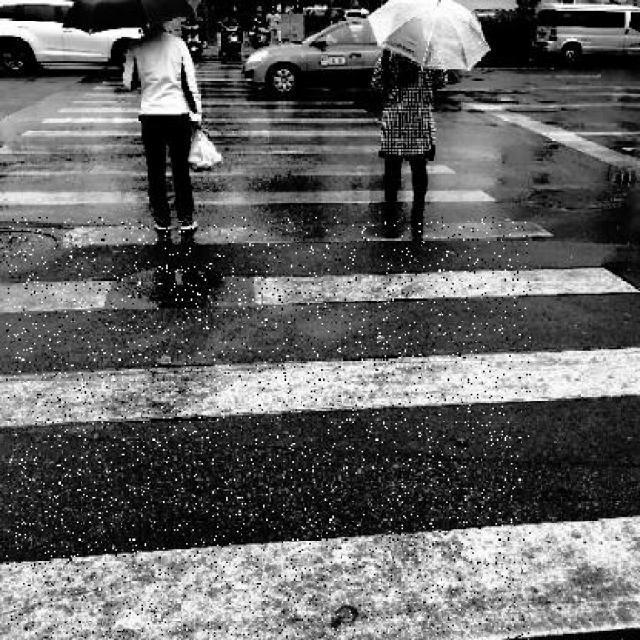crosswalk: (0, 77, 640, 640)
